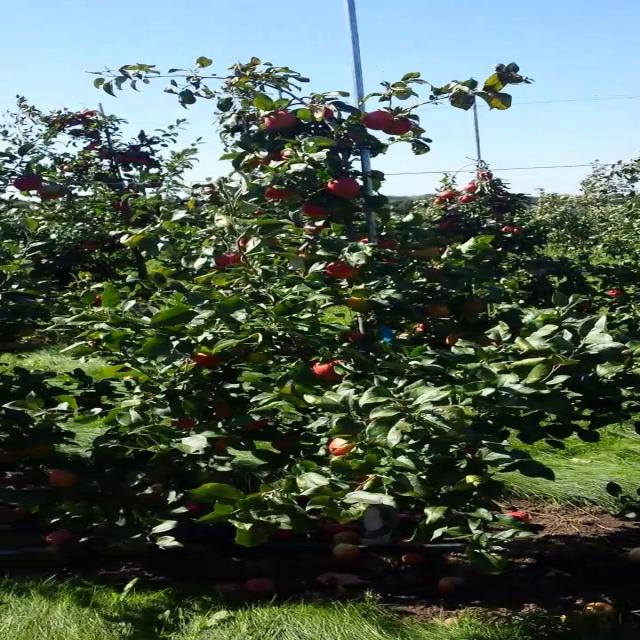apple: (312, 360, 347, 383), (326, 180, 363, 200), (362, 112, 393, 132), (326, 264, 363, 280), (269, 112, 299, 129), (49, 472, 80, 488), (326, 440, 356, 456), (383, 120, 412, 136), (255, 152, 288, 166), (412, 248, 448, 260), (426, 304, 453, 319), (305, 204, 331, 219), (220, 252, 244, 268), (191, 356, 222, 368), (461, 300, 489, 313), (13, 180, 43, 192), (276, 436, 300, 451), (28, 444, 53, 458), (276, 436, 299, 451), (269, 188, 297, 200), (348, 300, 375, 312), (241, 420, 270, 431), (305, 224, 331, 235), (212, 404, 231, 419), (42, 188, 64, 200), (248, 352, 270, 364), (376, 240, 398, 250), (170, 420, 197, 428), (348, 332, 364, 343), (447, 336, 462, 347), (184, 504, 204, 512), (241, 236, 254, 248), (212, 440, 228, 449), (92, 296, 105, 307), (326, 108, 334, 119)
